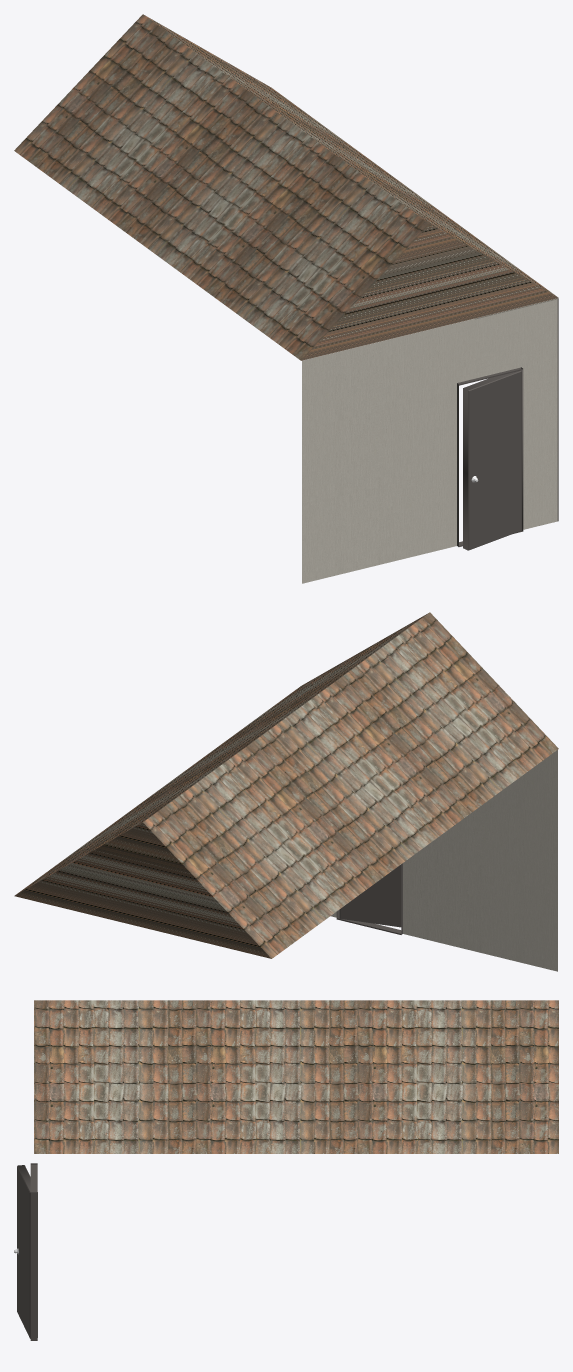
File: AS_Tek_istaba_jumts.glb
3 views of the same model, one above another, from view 1: azimuth 30°, elevation 25°; view 2: azimuth 150°, elevation 25°; view 3: azimuth 270°, elevation 25° (orthographic). The views are drawn at different scales.
Visible parts, largest first — view 1: room; view 2: room; view 3: room.
Boxes of the visible parts, x1,y1,x2,y2 form: room: [14, 14, 558, 583]; room: [14, 612, 558, 971]; room: [14, 1000, 558, 1340].
Size of the model in its own units: 3.63 by 4.42 by 7.27.
4 materials, 2 textured.
